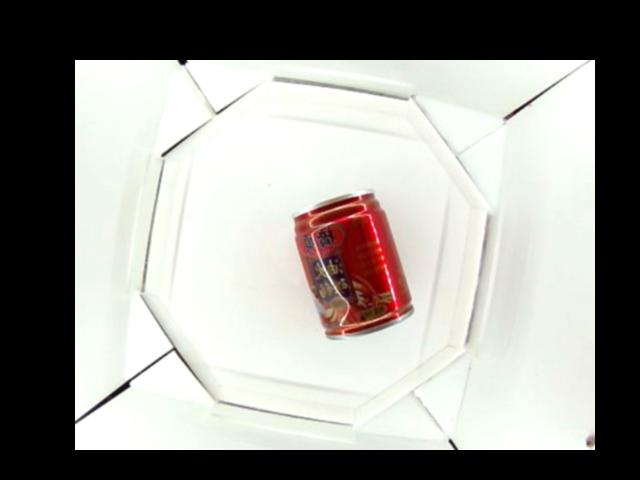Bottle: (289, 188, 417, 341)
